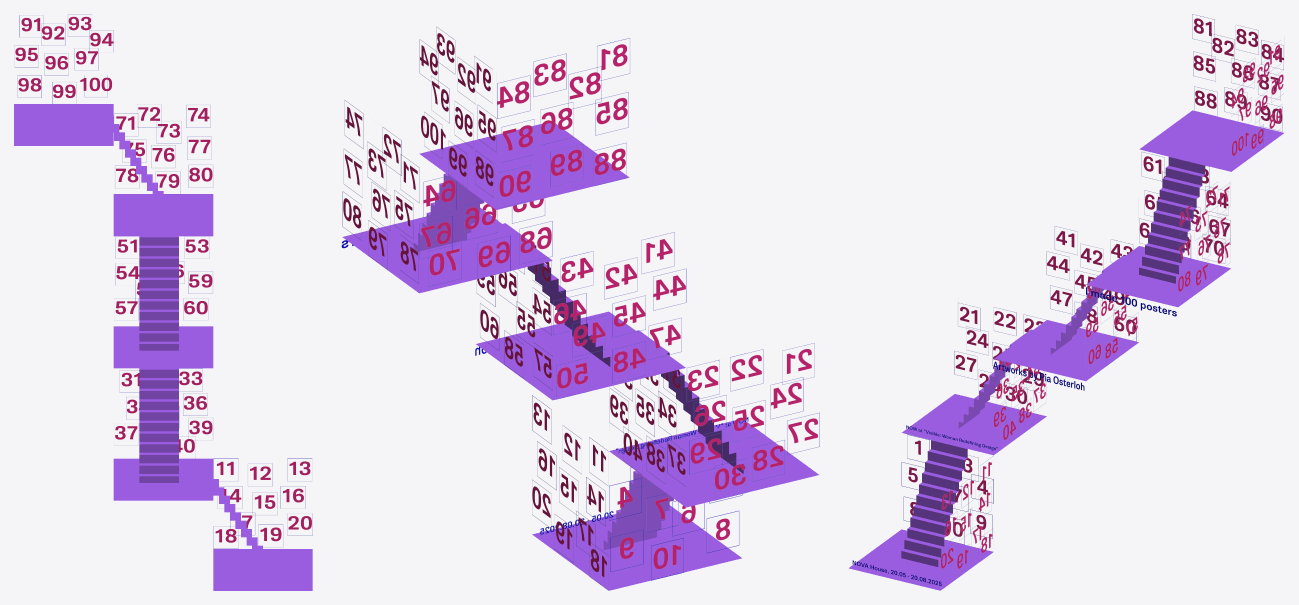
File: 100_posters.glb
The picture shows the model from 3 angles, left to right: view 1: azimuth 30°, elevation 25°; view 2: azimuth 150°, elevation 25°; view 3: azimuth 270°, elevation 25°; orthographic projection. The views are drawn at different scales.
Parts seen in each view (by area): view 1: staircase 2, staircase 3, floor 4, floor 3, floor 0, floor 2, floor 1, 90-100, 71-80, 11-20, 51-60, 31-40 (+2 smaller); view 2: floor 4, floor 2, floor 1, floor 0, floor 3, 81-90, 41-50, 21-30, 61-70, 90-100, 71-80, staircase 1 (+7 smaller); view 3: floor 4, staircase 4, staircase 1, floor 2, floor 1, floor 0, floor 3, 81-90, 41-50, 21-30, 90-100, 61-70 (+7 smaller).
Part boxes in pixels (box(x1,y1,x2,y2)): staircase 2: box(139, 368, 178, 482); staircase 3: box(139, 236, 178, 350); floor 4: box(14, 104, 113, 145); floor 3: box(113, 194, 213, 236); floor 0: box(213, 549, 312, 590); floor 2: box(113, 326, 213, 368); floor 1: box(113, 458, 213, 500); 90-100: box(14, 14, 113, 103); 71-80: box(114, 105, 213, 193); 11-20: box(213, 458, 312, 548); 51-60: box(115, 237, 212, 319); 31-40: box(114, 368, 212, 452); floor 4: box(419, 123, 629, 209); floor 2: box(476, 311, 685, 400); floor 1: box(609, 420, 818, 507); floor 0: box(532, 505, 741, 590); floor 3: box(342, 208, 552, 293); 81-90: box(497, 38, 630, 208); 41-50: box(553, 232, 686, 399); 21-30: box(687, 343, 819, 500); 61-70: box(419, 176, 552, 286); 90-100: box(419, 26, 496, 197); 71-80: box(342, 100, 419, 283); staircase 1: box(603, 471, 673, 549); floor 4: box(1139, 110, 1283, 171); staircase 4: box(1139, 156, 1205, 283); staircase 1: box(901, 440, 967, 566); floor 2: box(994, 320, 1138, 381); floor 1: box(902, 394, 1046, 455); floor 0: box(849, 529, 993, 590); floor 3: box(1086, 246, 1230, 307); 81-90: box(1192, 14, 1283, 131); 41-50: box(1046, 226, 1136, 341); 21-30: box(954, 302, 1045, 408); 90-100: box(1231, 40, 1283, 161); 61-70: box(1139, 152, 1230, 263).
Bounding box in the file's own units: 2.41 × 5.05 × 4.14.
Materials: 15 (14 with a texture image).
